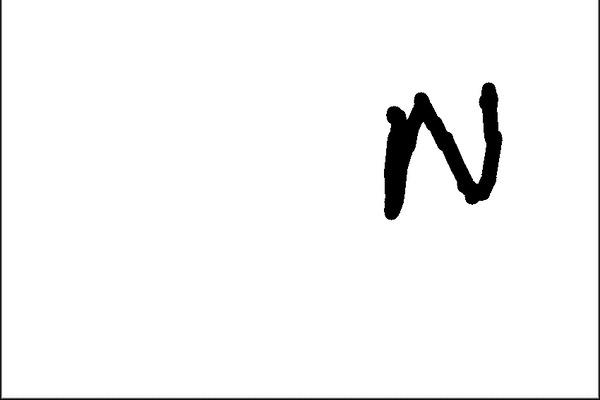N: (373, 77, 509, 225)
